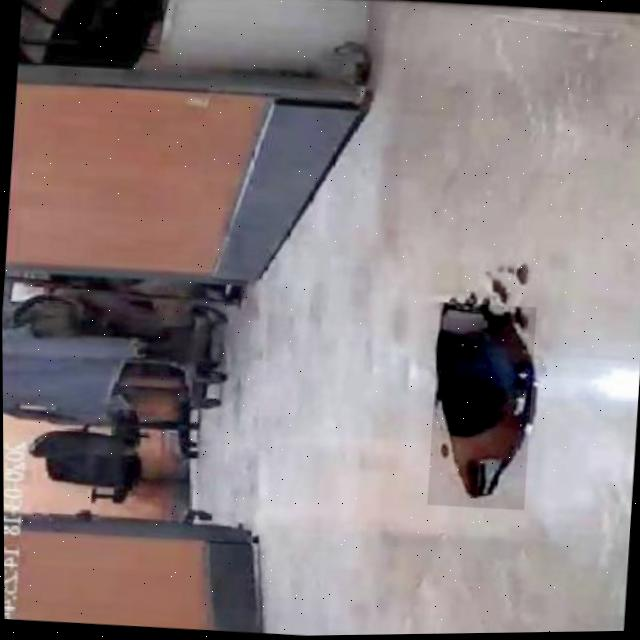spillage: (437, 303, 530, 507)
